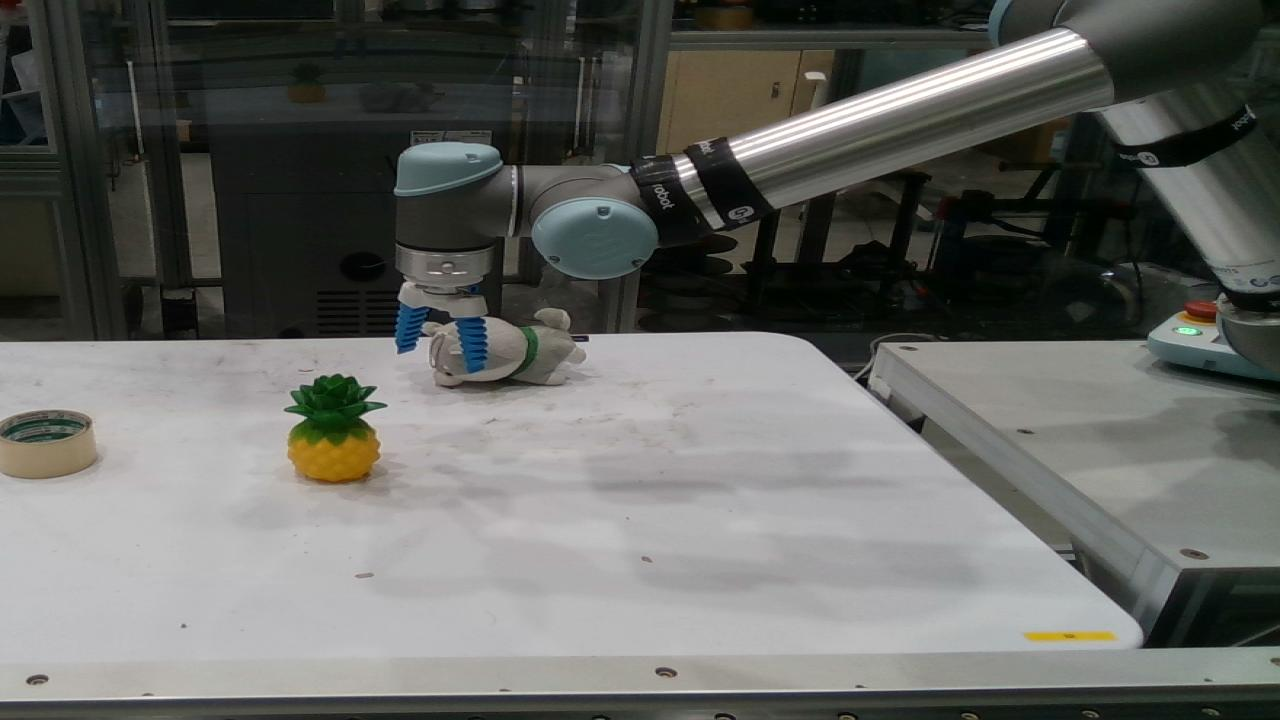UR5: (396, 0, 1279, 372)
gripper_left: (394, 303, 429, 353)
gripper_right: (457, 317, 487, 372)
target: (420, 311, 588, 387), (285, 374, 385, 483), (0, 410, 96, 476)
